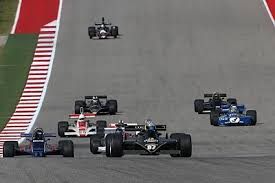FormulaOneCar: (56, 113, 108, 139), (71, 92, 120, 117)
